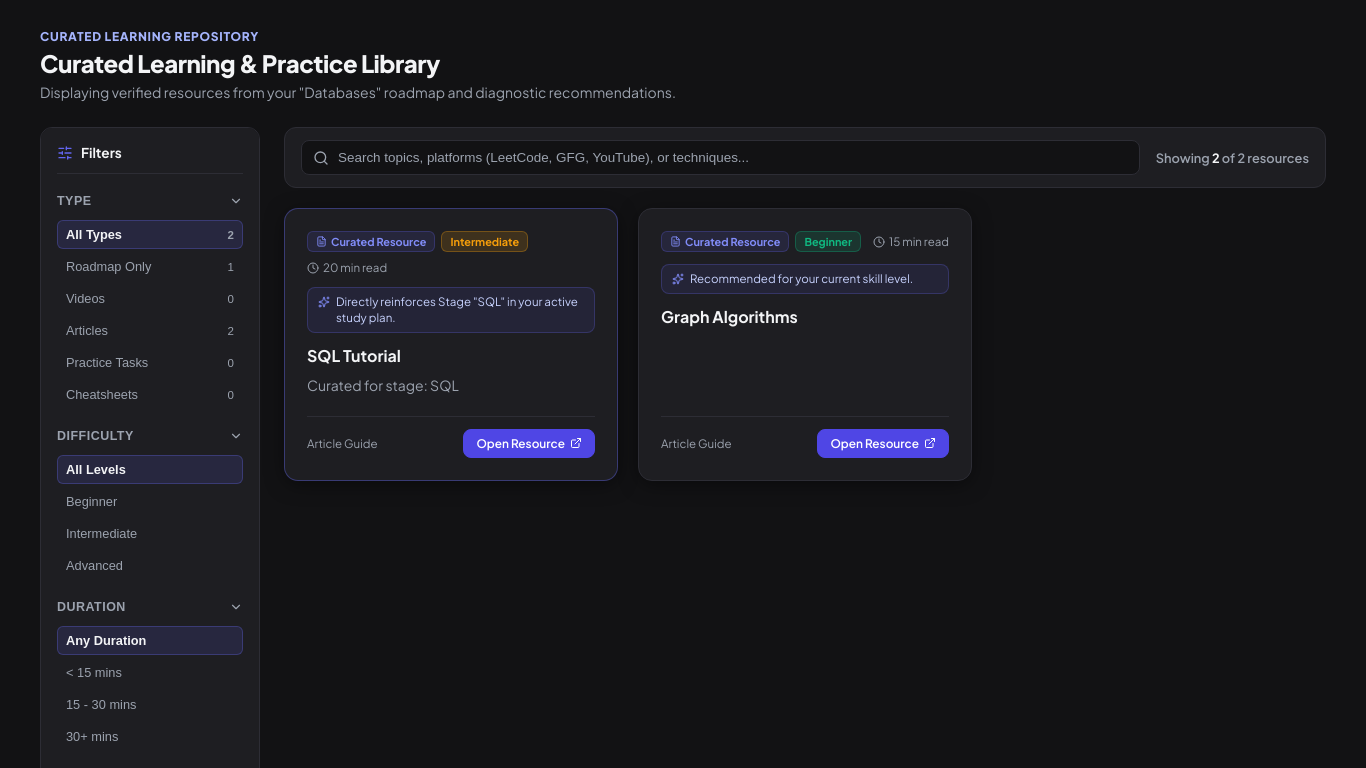
Scenario: Sprint one view interactions › ResourcesFullView searches across plan and recommendations
expect the heading "SQL Tutorial" is shown: met, box [307,345,401,366]
expect the heading "Graph Algorithms" is shown: met, box [661,306,798,327]
Replace the text in the field with placeholder "Search topics, platforms" with "Graph" at (720, 158), box [301,140,1140,175]
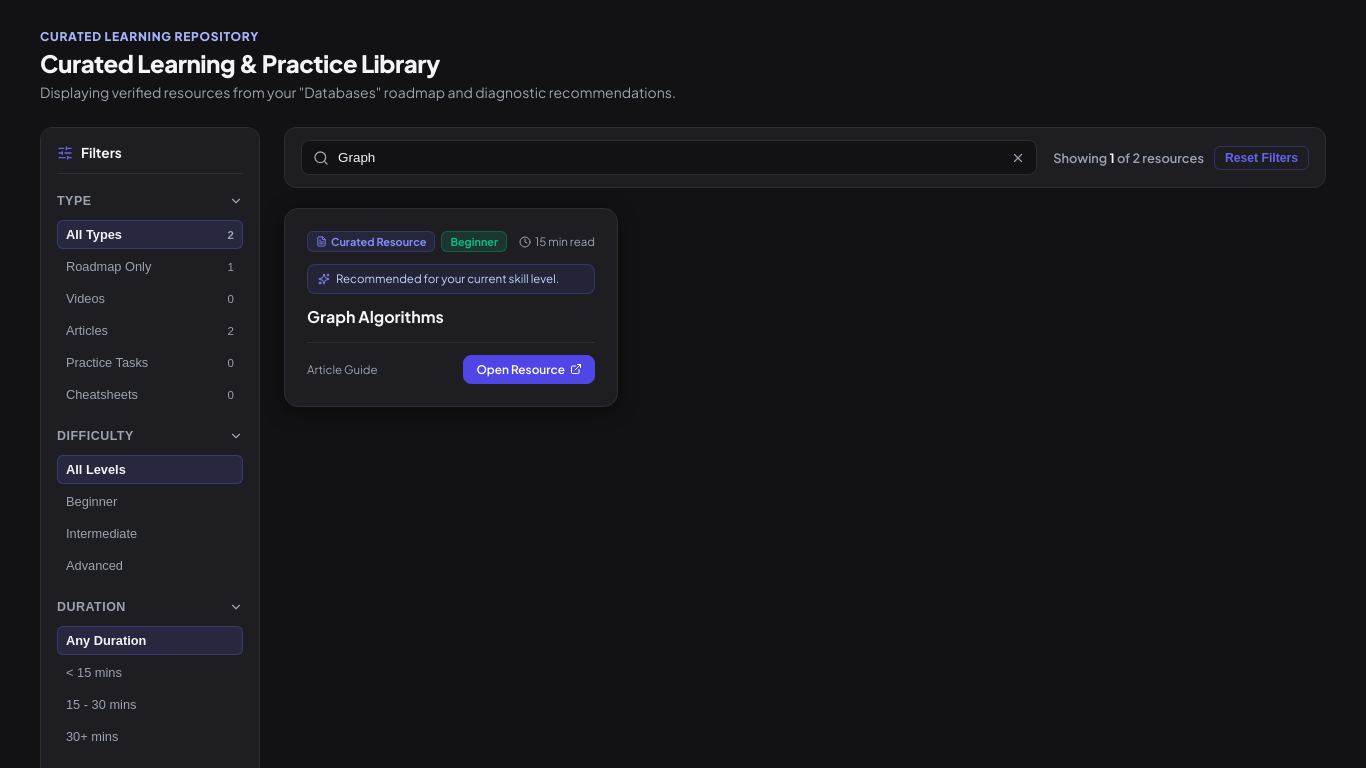
expect the heading "Graph Algorithms" is shown: met, box [307,306,444,327]
expect the heading "SQL Tutorial" is gone: met
Click the button "Reset Filters".
click(1262, 158)  # box [1214,146,1309,170]
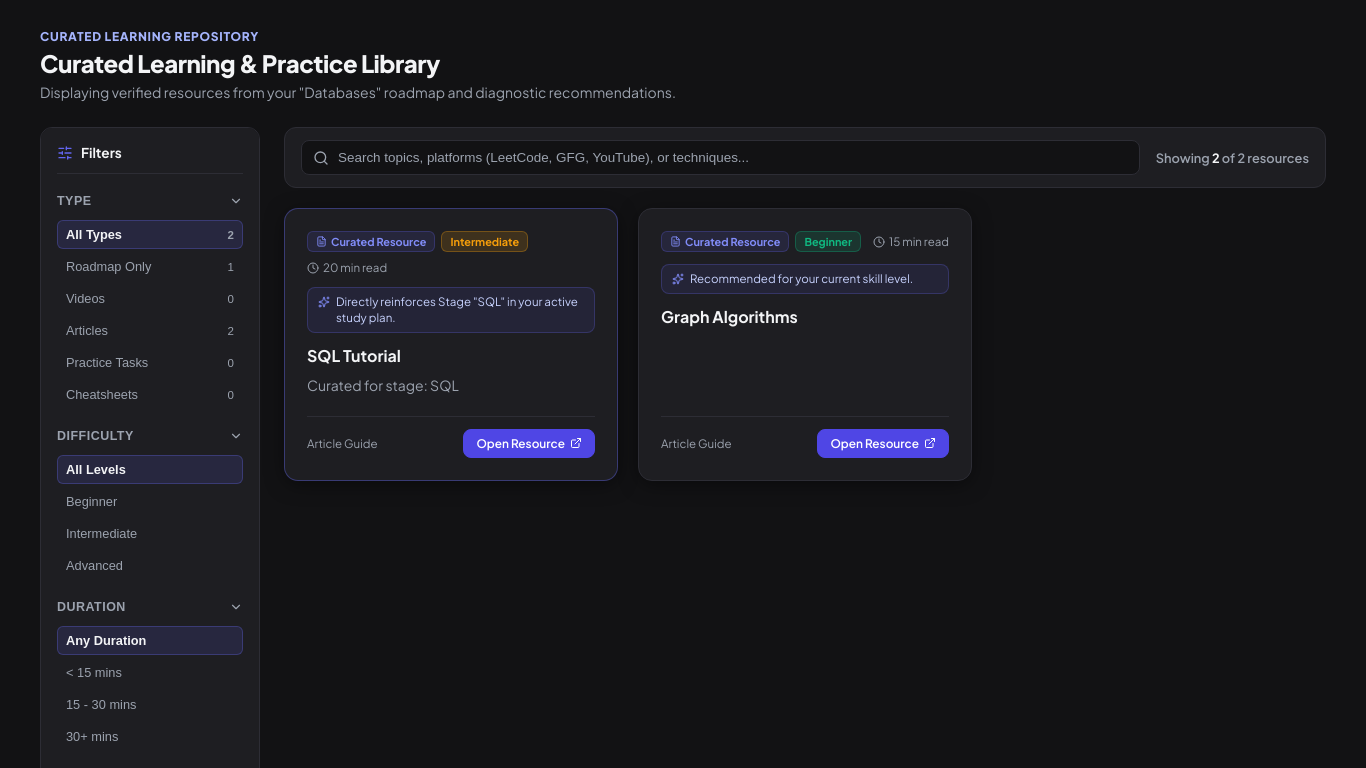
expect the heading "SQL Tutorial" is shown: met, box [307,345,401,366]
